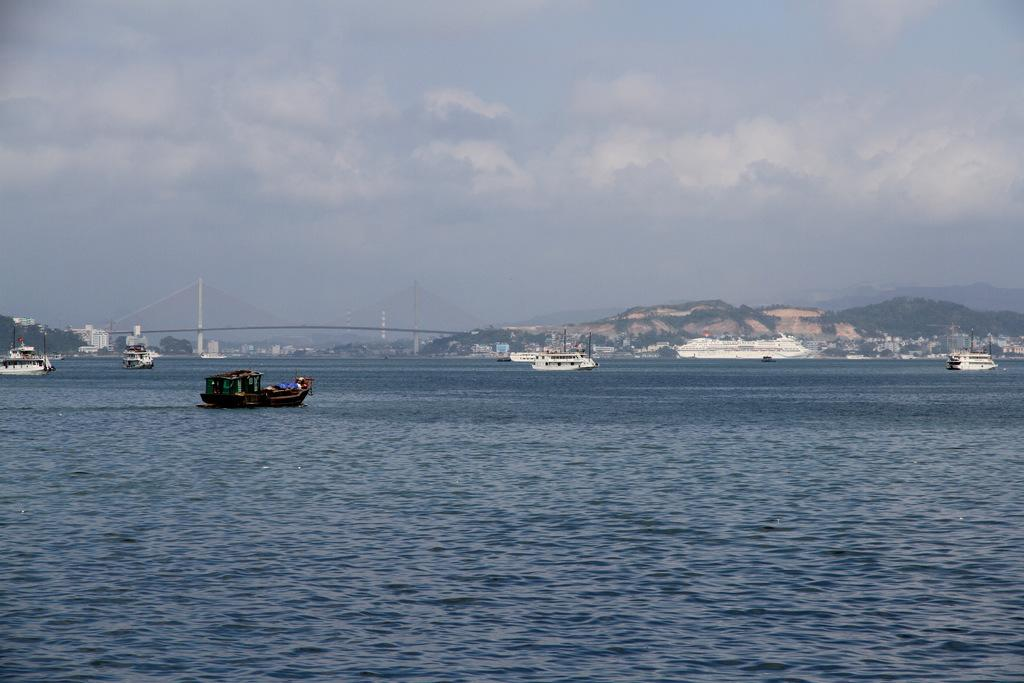PassengerShip: (671, 336, 811, 362), (0, 340, 58, 378), (532, 346, 604, 372), (114, 326, 156, 368), (944, 351, 998, 374), (497, 348, 563, 364)
